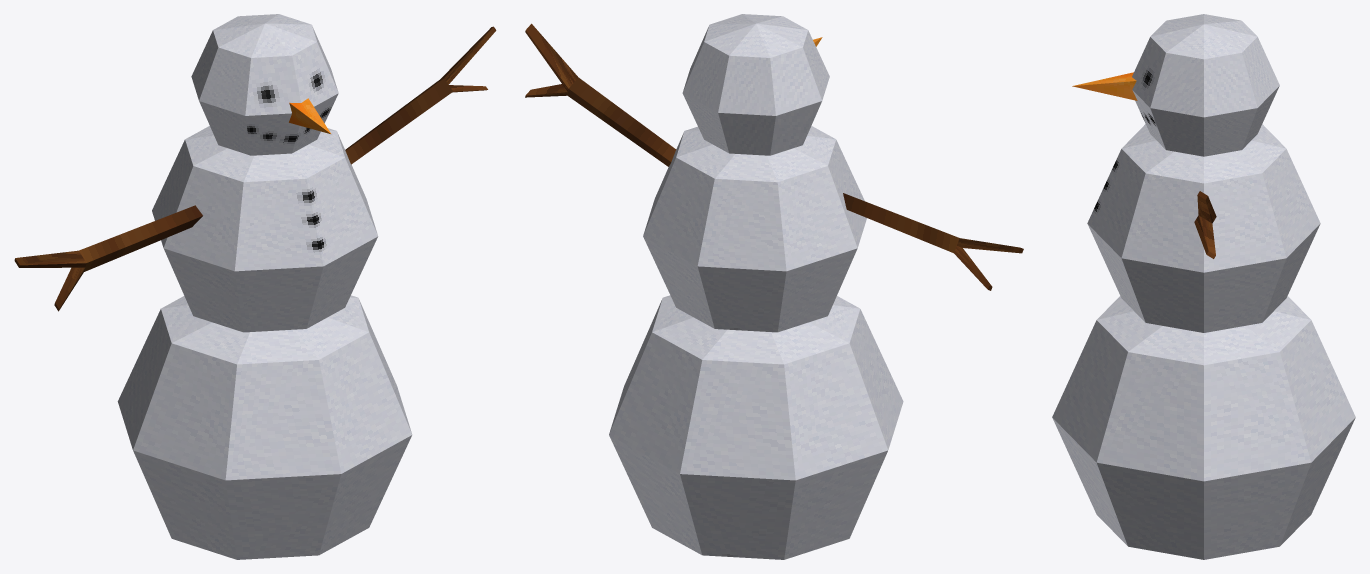
The model's file is snowman.glb.
3 views of the same model, side by side, from view 1: azimuth 30°, elevation 25°; view 2: azimuth 150°, elevation 25°; view 3: azimuth 270°, elevation 25° (orthographic).
Parts seen in each view (by area): view 1: Cube; view 2: Cube; view 3: Cube.
Boxes of the visible parts, left/top/right/bottom form: Cube: left=14, top=14, right=496, bottom=559; Cube: left=525, top=14, right=1023, bottom=559; Cube: left=1052, top=14, right=1355, bottom=559.
Size of the model in its own units: 3.69 by 3.74 by 2.
Materials: 1 (1 with a texture image).
